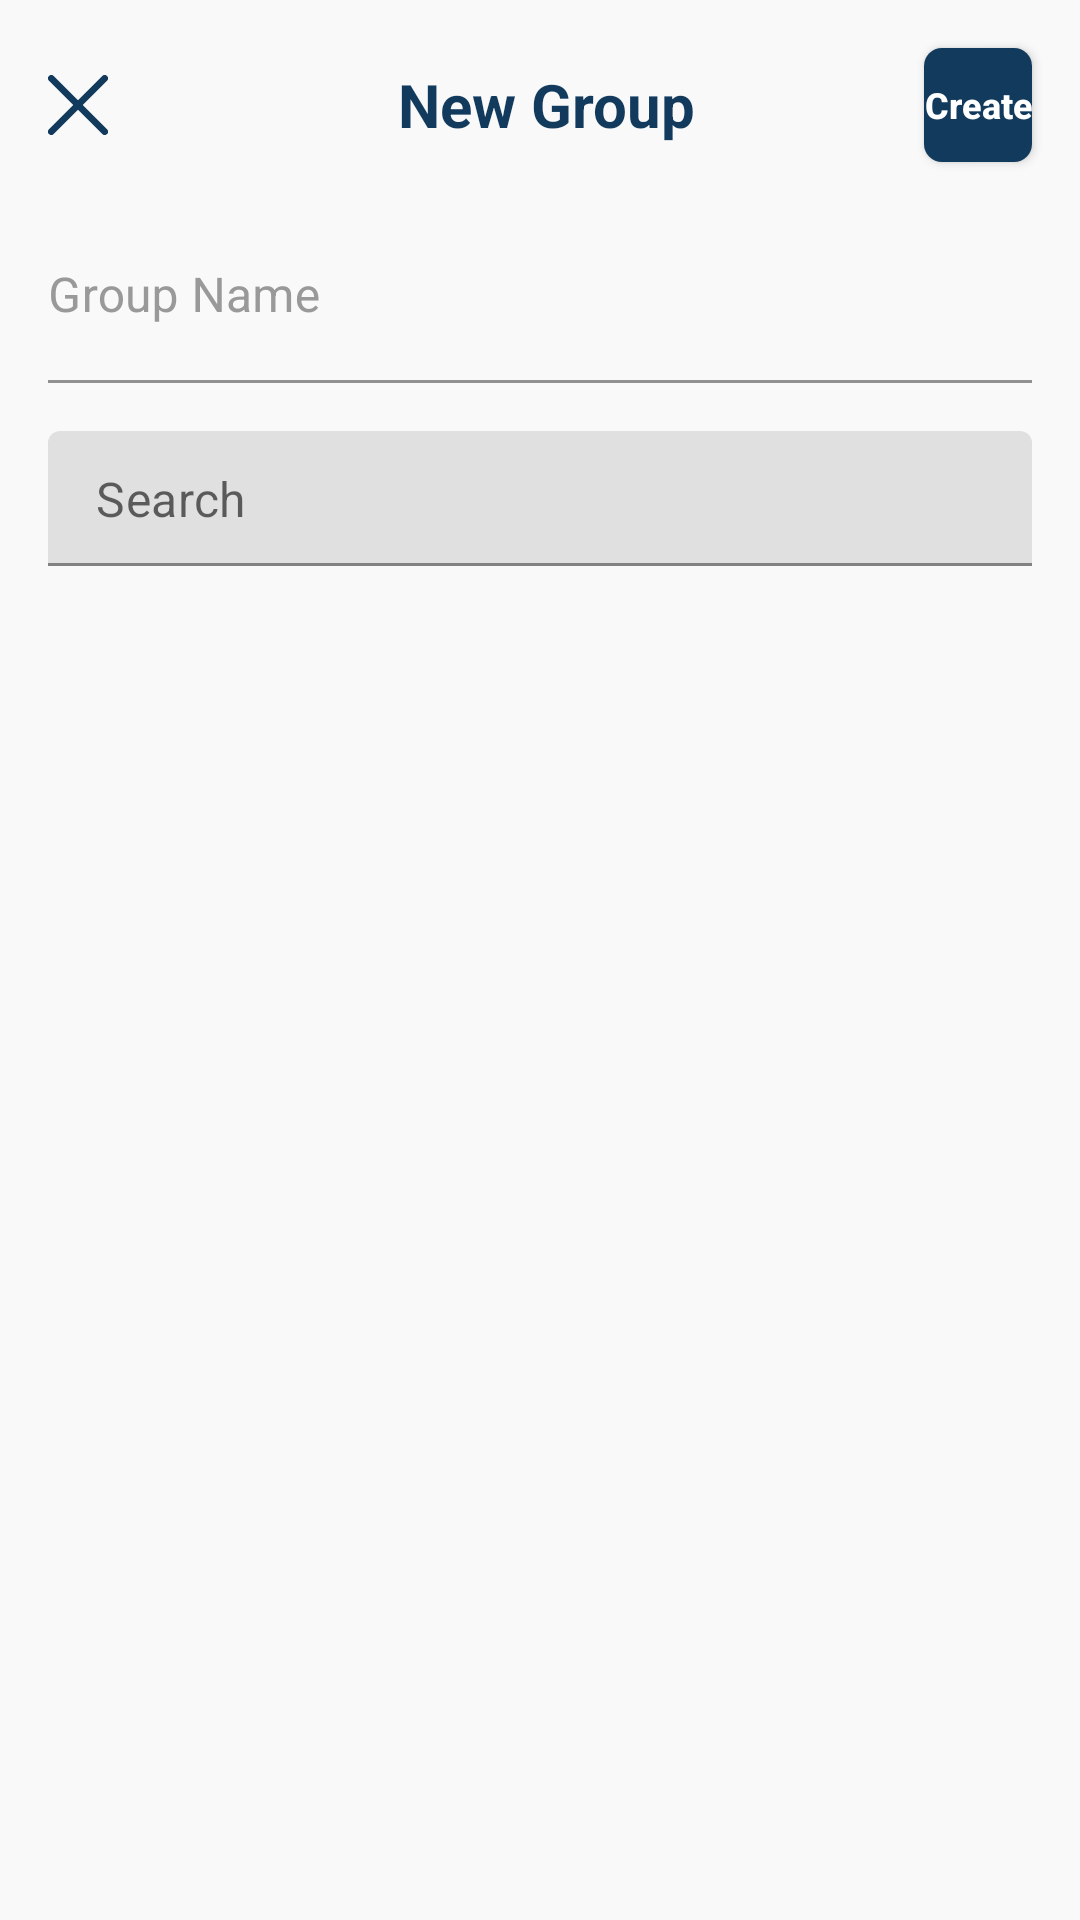

Screen size 1080px x 1920px. Icon name, then its center in pixels as (x=x, y=y):
dismiss: (x=78, y=105)
